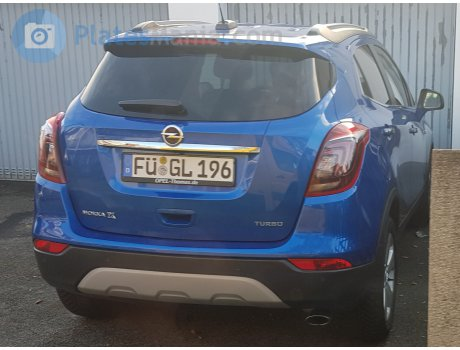License Plates: (131, 152, 238, 178)
